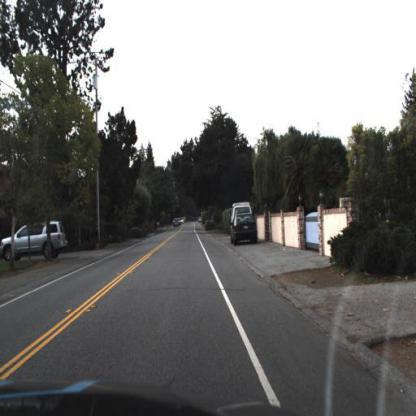car: (1, 219, 69, 264), (229, 212, 258, 246), (231, 201, 254, 223)
